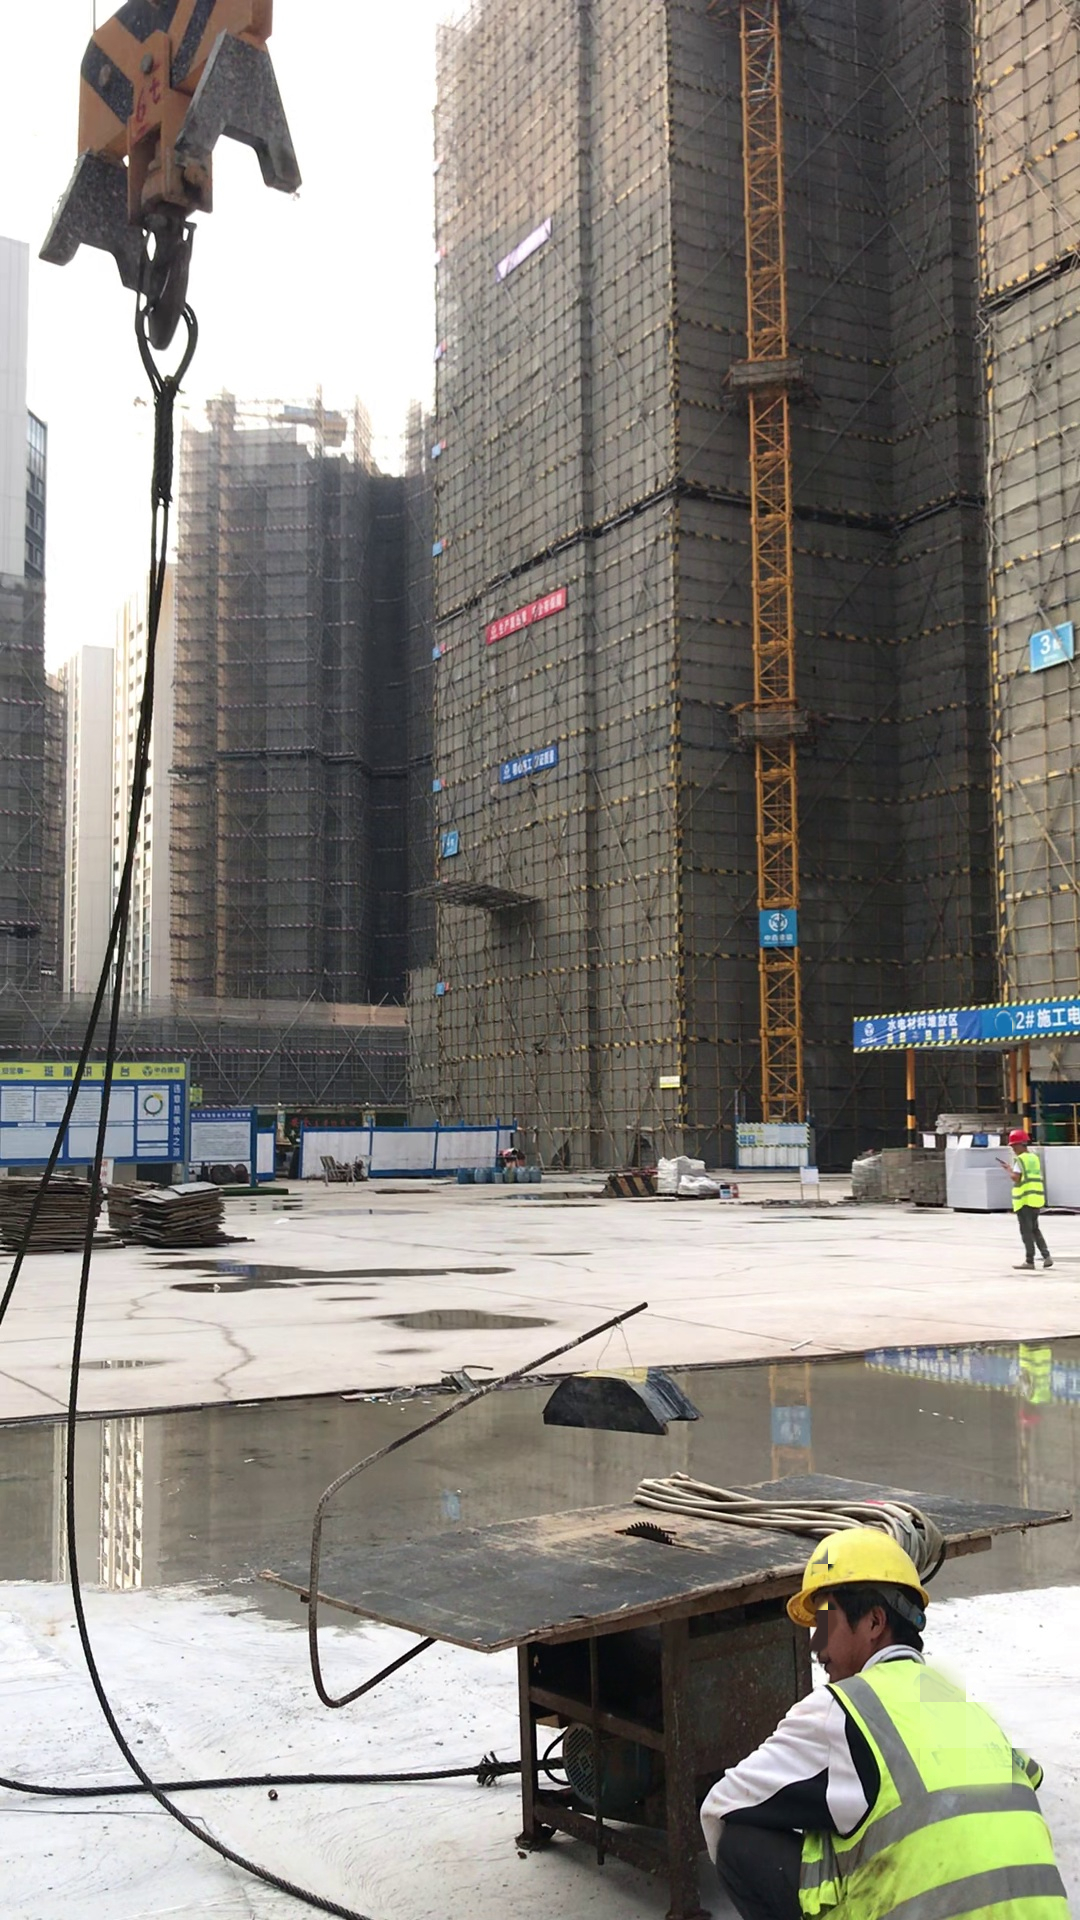board: (130, 1172, 249, 1250), (2, 1171, 104, 1256)
cutter: (286, 1445, 1066, 1903)
helmet: (794, 1529, 943, 1592), (1007, 1126, 1037, 1144)
hook: (32, 1, 316, 355)
person: (698, 1525, 1080, 1913), (984, 1128, 1070, 1274)
slogan: (854, 1000, 1080, 1041), (489, 583, 572, 646), (497, 743, 561, 785), (165, 1083, 186, 1163)
vest: (761, 1672, 1080, 1907), (1006, 1156, 1050, 1212)
